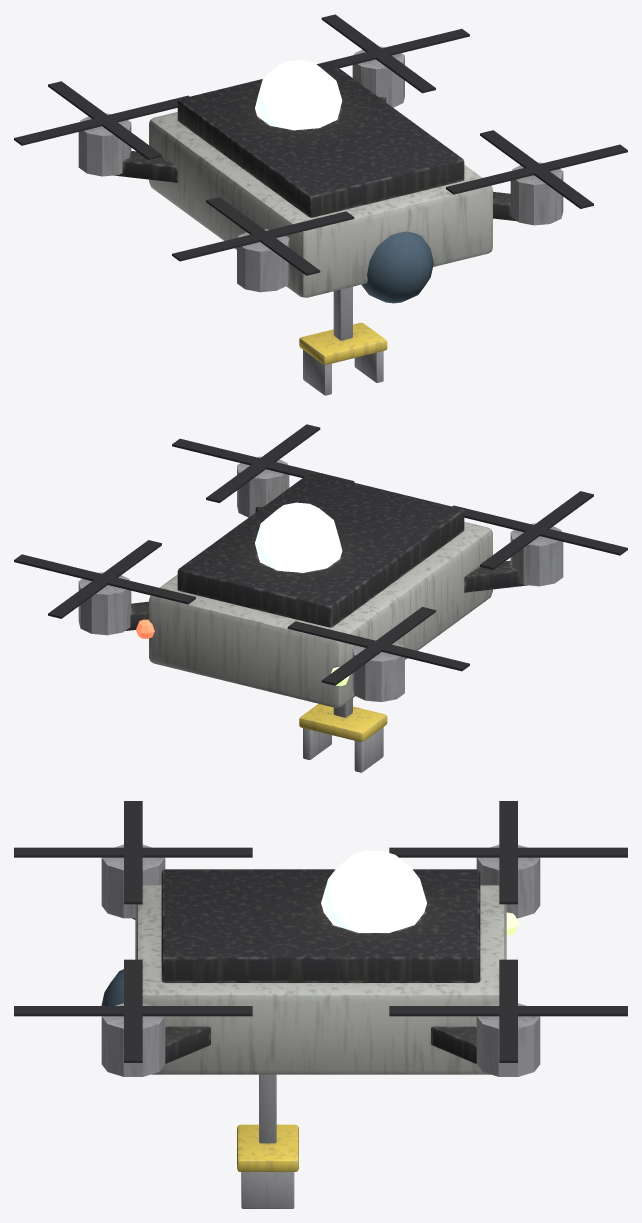
Rendered from builddrone.glb.
3 views of the same model, one above another, from view 1: azimuth 30°, elevation 25°; view 2: azimuth 150°, elevation 25°; view 3: azimuth 270°, elevation 25° (orthographic). The views are drawn at different scales.
Parts seen in each view (by area): view 1: Hull, Rotor3, Rotor4, Rotor2, Rotor1; view 2: Hull, Rotor1, Rotor2, Rotor3, Rotor4; view 3: Hull, Rotor1, Rotor3, Rotor4, Rotor2.
Boxes of the visible parts, x1,y1,x2,y2 form: Hull: [78, 46, 563, 395]; Rotor3: [172, 197, 354, 275]; Rotor4: [446, 130, 627, 208]; Rotor2: [14, 81, 189, 159]; Rotor1: [317, 14, 469, 93]; Hull: [78, 456, 563, 772]; Rotor1: [14, 540, 195, 618]; Rotor2: [287, 607, 469, 685]; Rotor3: [452, 491, 627, 569]; Rotor4: [172, 424, 354, 502]; Hull: [101, 844, 540, 1208]; Rotor1: [389, 959, 627, 1062]; Rotor3: [14, 801, 252, 904]; Rotor4: [14, 959, 252, 1062]; Rotor2: [389, 801, 627, 904].
Bounding box in the file's own units: 3.47 × 2.11 × 3.47.
10 materials, 9 textured.
